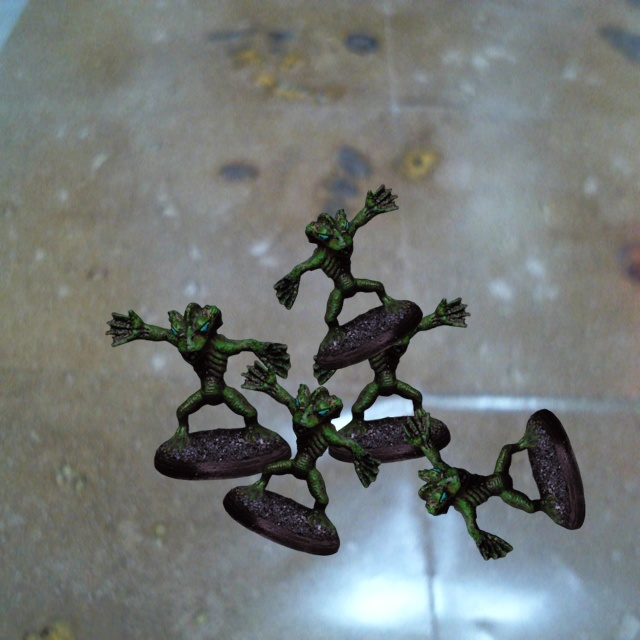pieza_juego: (105, 302, 291, 480), (223, 360, 380, 555), (400, 409, 585, 560), (273, 184, 422, 369), (313, 297, 470, 463)
